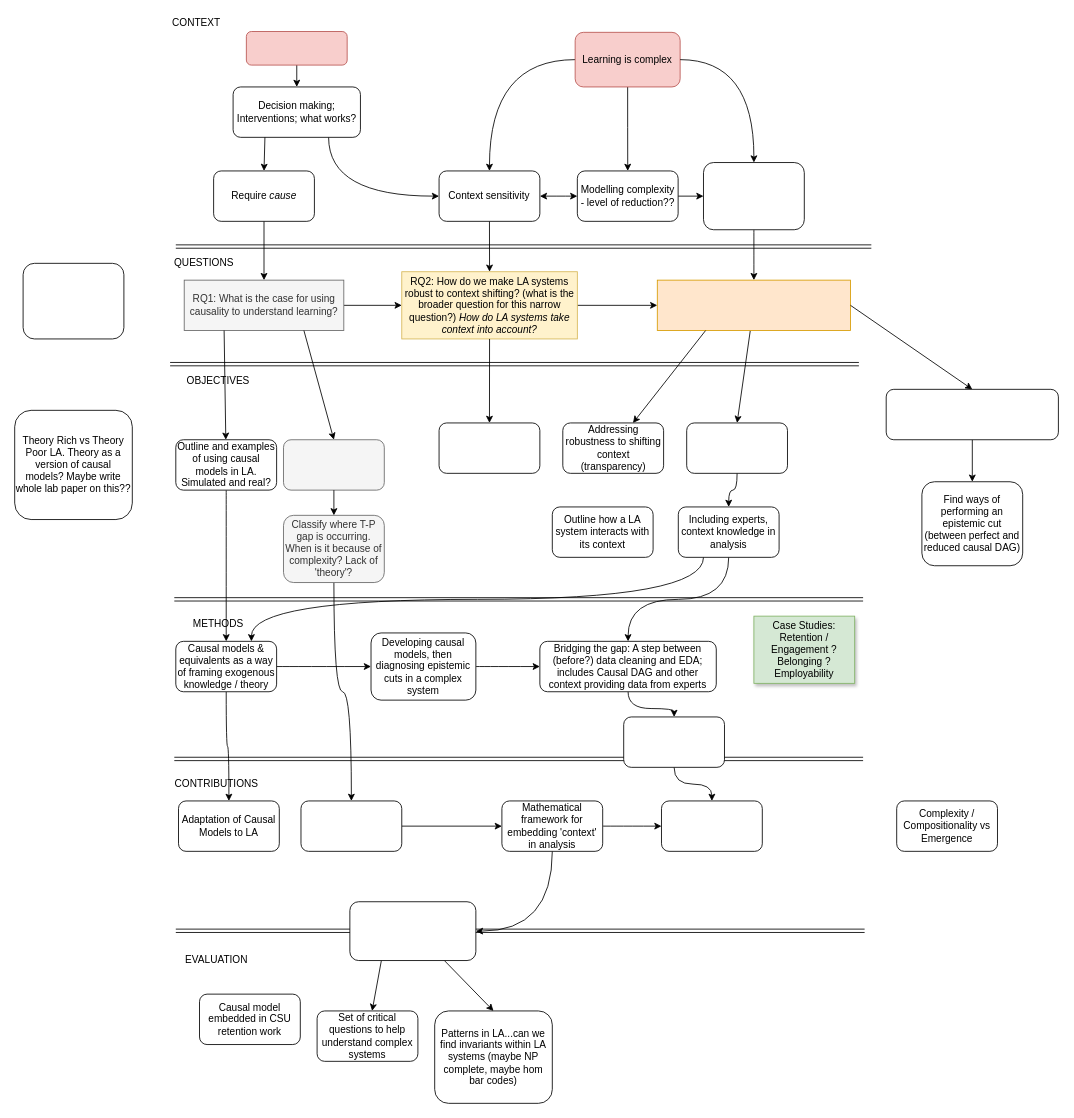
Image size: 1074x1118. Some labels were removed from this diagram. The shapes that lost their labels are listed below. From the top down, each one's centre as x and y in pixels, then its label:
At point (296, 48): "Purpose of analysing learning?".
At point (753, 196): "Confusion in communication and decision making around complex LA systems".
At point (73, 300): "Causality might be framed more generally as exogenous framing / theory?".
At point (753, 305): "RQ3: How can we better approach context and complexity in LA?".
At point (971, 414): "Define / model complexity as it arises in education".
At point (333, 464): "Analytic / Practitioner gap. Theory gap?".
At point (489, 447): "Existing state?? Lit review".
At point (737, 447): "Communicate uncertainty and assumptions to practitioners".
At point (673, 741): "Methods robust to complex systems".
At point (351, 825): "Defining the Theory - Practitioner gap".
At point (711, 825): "Guidelines / methods for approaching LA in complex systems".
At point (412, 931): "Better questions to ask of a complex LA system".
